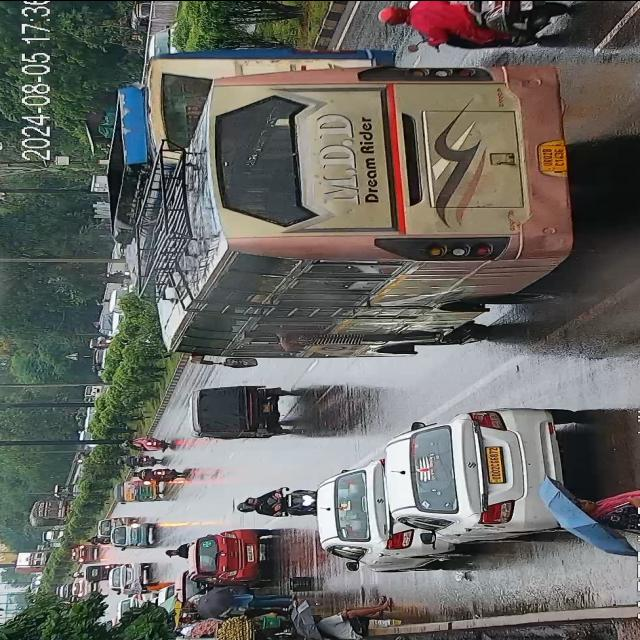2-wheelers: (384, 0, 554, 48), (230, 478, 314, 520), (128, 434, 171, 462), (142, 462, 184, 486)
auto: (196, 382, 282, 438), (29, 494, 72, 526), (114, 518, 154, 549), (125, 476, 163, 502), (118, 475, 148, 501), (85, 560, 111, 580)
bus: (156, 51, 569, 372), (100, 34, 398, 220)
car: (372, 412, 598, 543), (316, 464, 441, 568), (198, 528, 266, 583), (112, 558, 148, 590)
pedestrian: (552, 484, 640, 532), (300, 594, 388, 640)
truck: (15, 551, 51, 573)
